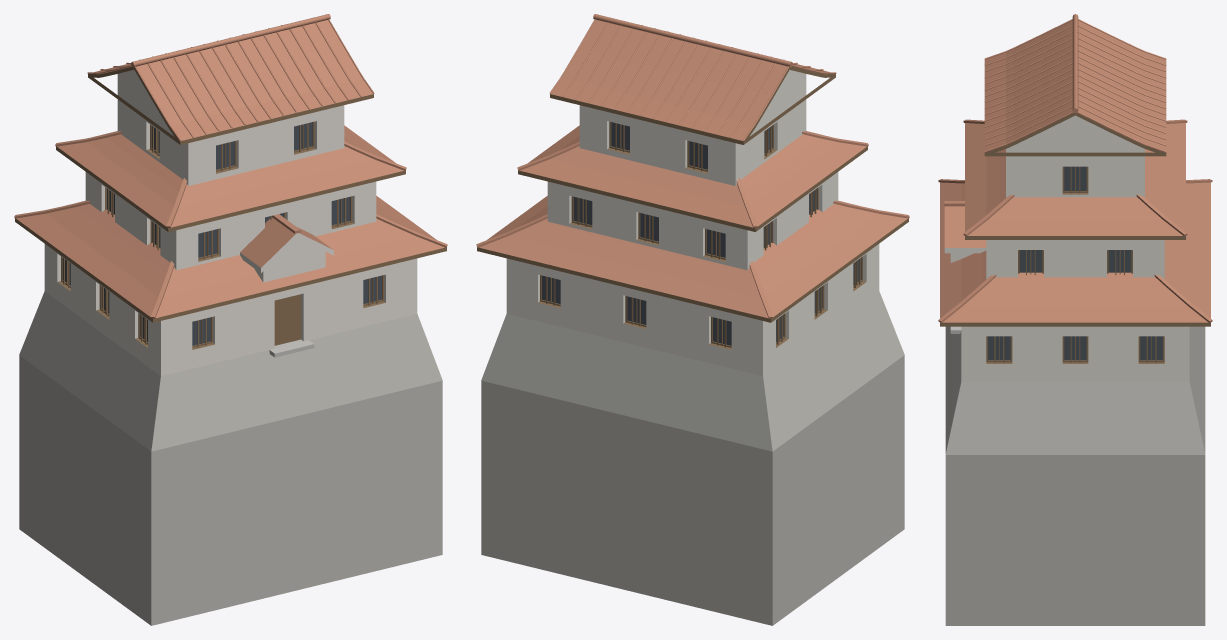
The model's file is japanese_castle_3_s.glb.
3 renders of one model, left to right at view 1: azimuth 30°, elevation 25°; view 2: azimuth 150°, elevation 25°; view 3: azimuth 270°, elevation 25°, orthographic.
Parts seen in each view (by area): view 1: japanese_castle_3_s; view 2: japanese_castle_3_s; view 3: japanese_castle_3_s.
Part boxes in pixels (x1,y1,x2,y2): japanese_castle_3_s: [14, 14, 447, 625]; japanese_castle_3_s: [476, 14, 909, 625]; japanese_castle_3_s: [938, 14, 1212, 625].
Bounding box in the file's own units: 14.27 × 23.14 × 11.63.
